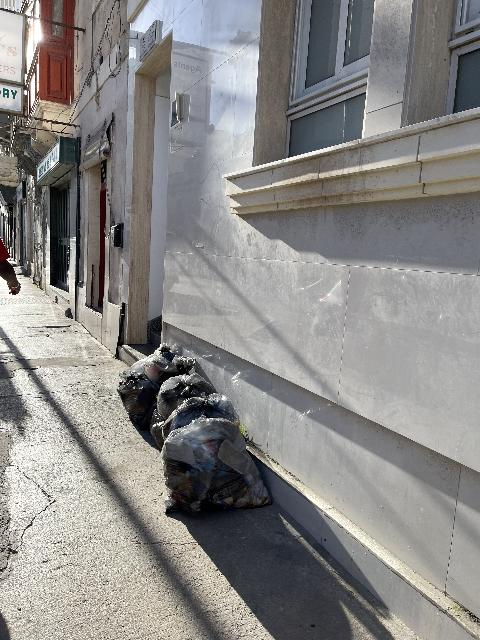Mixed -Black-: (117, 373, 160, 429)
Recyclable -Grey-: (162, 416, 271, 513), (162, 393, 239, 439), (152, 372, 217, 423), (129, 354, 177, 383), (172, 356, 195, 374), (158, 343, 175, 362)
